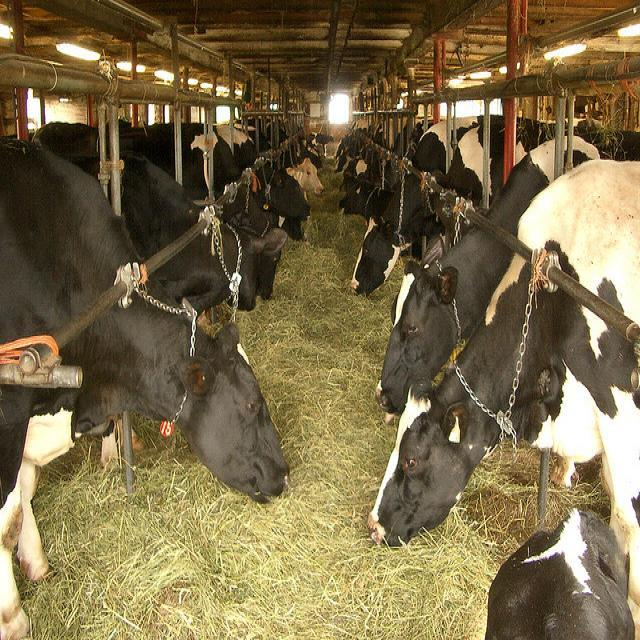cow: (0, 136, 288, 639), (368, 162, 639, 606), (375, 128, 602, 431), (372, 495, 638, 637), (68, 153, 265, 315), (2, 116, 214, 205), (413, 115, 554, 232), (212, 128, 279, 299), (212, 121, 310, 219), (347, 211, 443, 296), (411, 115, 479, 165), (338, 155, 374, 213), (308, 130, 332, 154), (277, 117, 285, 131)
